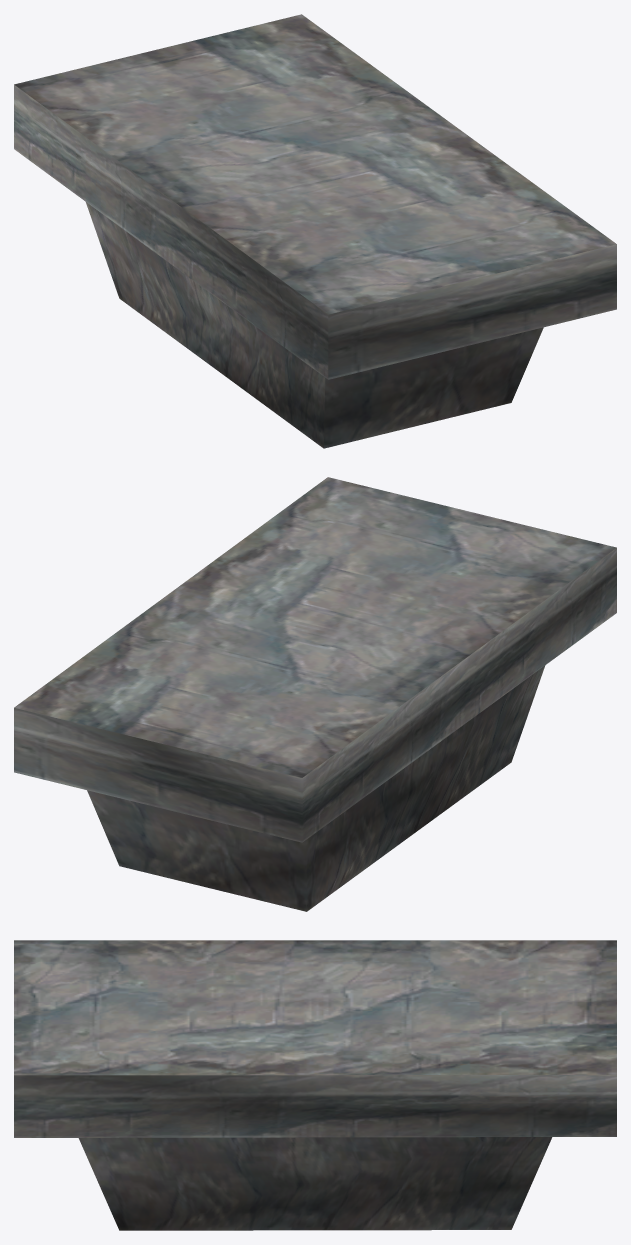
Rendered from altar02.obj.
3 views of the same model, one above another, from view 1: azimuth 30°, elevation 25°; view 2: azimuth 150°, elevation 25°; view 3: azimuth 270°, elevation 25° (orthographic). The views are drawn at different scales.
Visible parts, largest first — view 1: Geoset1, Geoset0; view 2: Geoset1, Geoset0; view 3: Geoset1, Geoset0.
Boxes of the visible parts, box(x1,y1,x2,y2) form: Geoset1: box(14, 14, 616, 314); Geoset0: box(14, 85, 616, 448); Geoset1: box(14, 477, 616, 777); Geoset0: box(14, 548, 616, 911); Geoset1: box(14, 940, 616, 1075); Geoset0: box(14, 1075, 616, 1230).
Bounding box in the file's own units: 2.16 × 1.33 × 4.07.
2 materials, 2 textured.
